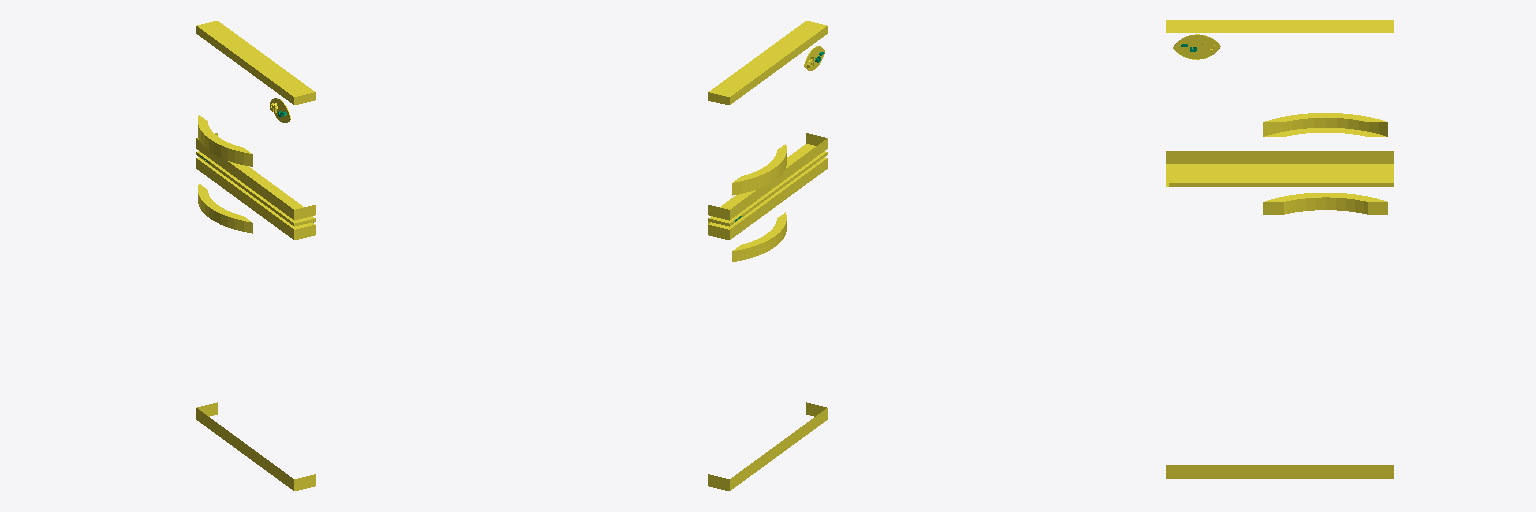
robot.urdf — partnet_26dcf7a76c89d5aa4da5feafe6f1c8fc:
<?xml version="1.0" encoding="utf-8"?>
<robot name="partnet_26dcf7a76c89d5aa4da5feafe6f1c8fc">
 <link name="base"/>
 <link name="link_0">
  <visual name="cabinet_door_surface-16">
   <origin xyz="0.40733147877175346 0.6408960223197937 -0.534749449612443"/>
   <geometry>
    <mesh filename="textured_objs/original-40.obj"/>
   </geometry>
  </visual>
  <visual name="handle-17">
   <origin xyz="0.40733147877175346 0.6408960223197937 -0.534749449612443"/>
   <geometry>
    <mesh filename="textured_objs/original-42.obj"/>
   </geometry>
  </visual>
  <visual name="handle-17">
   <origin xyz="0.40733147877175346 0.6408960223197937 -0.534749449612443"/>
   <geometry>
    <mesh filename="textured_objs/original-44.obj"/>
   </geometry>
  </visual>
  <visual name="handle-17">
   <origin xyz="0.40733147877175346 0.6408960223197937 -0.534749449612443"/>
   <geometry>
    <mesh filename="textured_objs/original-43.obj"/>
   </geometry>
  </visual>
  <collision>
   <origin rpy="1.192092469182411e-07 2.3841852936359696e-07 -1.192092469182411e-07" xyz="0.4073319137096405 0.6408966183662415 -0.5347502827644348"/>
   <geometry>
    <mesh filename="cvx_objs/link_0.obj"/>
   </geometry>
  </collision>
 </link>
 <joint name="joint_0" type="revolute">
  <origin xyz="-0.40733147877175346 -0.6408960223197937 0.534749449612443"/>
  <axis xyz="0 -1 0"/>
  <child link="link_0"/>
  <parent link="link_2"/>
  <limit lower="0.0" upper="1.5833626974092556"/>
 </joint>
 <link name="link_1">
  <visual name="drawer_side-9">
   <origin xyz="0.0442021056935627 -0.5351194006185448 0.5088250041007991"/>
   <geometry>
    <mesh filename="textured_objs/original-25.obj"/>
   </geometry>
  </visual>
  <visual name="drawer_side-10">
   <origin xyz="0.0442021056935627 -0.5351194006185448 0.5088250041007991"/>
   <geometry>
    <mesh filename="textured_objs/original-30.obj"/>
   </geometry>
  </visual>
  <visual name="drawer_back-11">
   <origin xyz="0.0442021056935627 -0.5351194006185448 0.5088250041007991"/>
   <geometry>
    <mesh filename="textured_objs/original-31.obj"/>
   </geometry>
  </visual>
  <visual name="drawer_bottom-12">
   <origin xyz="0.0442021056935627 -0.5351194006185448 0.5088250041007991"/>
   <geometry>
    <mesh filename="textured_objs/original-29.obj"/>
   </geometry>
  </visual>
  <visual name="drawer_bottom-12">
   <origin xyz="0.0442021056935627 -0.5351194006185448 0.5088250041007991"/>
   <geometry>
    <mesh filename="textured_objs/original-28.obj"/>
   </geometry>
  </visual>
  <visual name="drawer_front-13">
   <origin xyz="0.0442021056935627 -0.5351194006185448 0.5088250041007991"/>
   <geometry>
    <mesh filename="textured_objs/original-26.obj"/>
   </geometry>
  </visual>
  <visual name="drawer_front-13">
   <origin xyz="0.0442021056935627 -0.5351194006185448 0.5088250041007991"/>
   <geometry>
    <mesh filename="textured_objs/original-34.obj"/>
   </geometry>
  </visual>
  <visual name="drawer_front-13">
   <origin xyz="0.0442021056935627 -0.5351194006185448 0.5088250041007991"/>
   <geometry>
    <mesh filename="textured_objs/original-7.obj"/>
   </geometry>
  </visual>
  <visual name="other_leaf-15">
   <origin xyz="0.0442021056935627 -0.5351194006185448 0.5088250041007991"/>
   <geometry>
    <mesh filename="textured_objs/original-32.obj"/>
   </geometry>
  </visual>
  <visual name="handle-7">
   <origin xyz="0.0442021056935627 -0.5351194006185448 0.5088250041007991"/>
   <geometry>
    <mesh filename="textured_objs/original-36.obj"/>
   </geometry>
  </visual>
  <visual name="handle-7">
   <origin xyz="0.0442021056935627 -0.5351194006185448 0.5088250041007991"/>
   <geometry>
    <mesh filename="textured_objs/original-38.obj"/>
   </geometry>
  </visual>
  <visual name="handle-7">
   <origin xyz="0.0442021056935627 -0.5351194006185448 0.5088250041007991"/>
   <geometry>
    <mesh filename="textured_objs/original-37.obj"/>
   </geometry>
  </visual>
  <collision>
   <origin rpy="-5.96046536571737e-08 1.788139076808266e-07 -1.7881391833896794e-07" xyz="0.044202227145433426 -0.5351198315620422 0.5088251829147339"/>
   <geometry>
    <mesh filename="cvx_objs/link_1.obj"/>
   </geometry>
  </collision>
 </link>
 <joint name="joint_1" type="prismatic">
  <origin xyz="-0.0442021056935627 0.5351194006185448 -0.5088250041007991"/>
  <axis xyz="0 0 0.9999999999999999"/>
  <child link="link_1"/>
  <parent link="link_2"/>
  <limit lower="0" upper="0.7759999999999998"/>
 </joint>
 <link name="link_2">
  <visual name="shelf-24">
   <origin xyz="0 0 0"/>
   <geometry>
    <mesh filename="textured_objs/original-2.obj"/>
   </geometry>
  </visual>
  <visual name="base_side_panel-19">
   <origin xyz="0 0 0"/>
   <geometry>
    <mesh filename="textured_objs/original-17.obj"/>
   </geometry>
  </visual>
  <visual name="base_side_panel-20">
   <origin xyz="0 0 0"/>
   <geometry>
    <mesh filename="textured_objs/original-19.obj"/>
   </geometry>
  </visual>
  <visual name="base_side_panel-21">
   <origin xyz="0 0 0"/>
   <geometry>
    <mesh filename="textured_objs/original-13.obj"/>
   </geometry>
  </visual>
  <visual name="base_side_panel-22">
   <origin xyz="0 0 0"/>
   <geometry>
    <mesh filename="textured_objs/original-20.obj"/>
   </geometry>
  </visual>
  <visual name="frame_horizontal_bar-30">
   <origin xyz="0 0 0"/>
   <geometry>
    <mesh filename="textured_objs/original-18.obj"/>
   </geometry>
  </visual>
  <visual name="frame_horizontal_bar-31">
   <origin xyz="0 0 0"/>
   <geometry>
    <mesh filename="textured_objs/original-22.obj"/>
   </geometry>
  </visual>
  <visual name="frame_horizontal_bar-32">
   <origin xyz="0 0 0"/>
   <geometry>
    <mesh filename="textured_objs/original-21.obj"/>
   </geometry>
  </visual>
  <visual name="vertical_side_panel-33">
   <origin xyz="0 0 0"/>
   <geometry>
    <mesh filename="textured_objs/original-12.obj"/>
   </geometry>
  </visual>
  <visual name="vertical_side_panel-33">
   <origin xyz="0 0 0"/>
   <geometry>
    <mesh filename="textured_objs/original-11.obj"/>
   </geometry>
  </visual>
  <visual name="vertical_side_panel-34">
   <origin xyz="0 0 0"/>
   <geometry>
    <mesh filename="textured_objs/original-16.obj"/>
   </geometry>
  </visual>
  <visual name="vertical_side_panel-34">
   <origin xyz="0 0 0"/>
   <geometry>
    <mesh filename="textured_objs/original-15.obj"/>
   </geometry>
  </visual>
  <visual name="back_panel-35">
   <origin xyz="0 0 0"/>
   <geometry>
    <mesh filename="textured_objs/original-6.obj"/>
   </geometry>
  </visual>
  <visual name="bottom_panel-36">
   <origin xyz="0 0 0"/>
   <geometry>
    <mesh filename="textured_objs/original-3.obj"/>
   </geometry>
  </visual>
  <visual name="frame_vertical_bar-37">
   <origin xyz="0 0 0"/>
   <geometry>
    <mesh filename="textured_objs/original-8.obj"/>
   </geometry>
  </visual>
  <visual name="frame_vertical_bar-38">
   <origin xyz="0 0 0"/>
   <geometry>
    <mesh filename="textured_objs/original-4.obj"/>
   </geometry>
  </visual>
  <visual name="frame_horizontal_bar-39">
   <origin xyz="0 0 0"/>
   <geometry>
    <mesh filename="textured_objs/original-9.obj"/>
   </geometry>
  </visual>
  <visual name="frame_horizontal_bar-40">
   <origin xyz="0 0 0"/>
   <geometry>
    <mesh filename="textured_objs/original-5.obj"/>
   </geometry>
  </visual>
  <visual name="other_leaf-42">
   <origin xyz="0 0 0"/>
   <geometry>
    <mesh filename="textured_objs/original-45.obj"/>
   </geometry>
  </visual>
  <collision>
   <origin rpy="0.0 -0.0 0.0" xyz="-0.0 -0.0 -0.0"/>
   <geometry>
    <mesh filename="cvx_objs/link_2.obj"/>
   </geometry>
  </collision>
 </link>
 <joint name="joint_2" type="fixed">
  <origin rpy="1.570796326794897 0 -1.570796326794897" xyz="0 0 0"/>
  <child link="link_2"/>
  <parent link="base"/>
 </joint>
</robot>

--- Facts derived from the render (not from the file) ---
3 views of the same robot in one strip: view 1: azimuth 30°, elevation 25°; view 2: azimuth 150°, elevation 25°; view 3: azimuth 270°, elevation 25° (orthographic).
Model partnet_26dcf7a76c89d5aa4da5feafe6f1c8fc with 4 links and 3 joints (1 revolute, 1 prismatic, 1 fixed), rooted at base, posed every joint at zero.
Visible links, largest first — view 1: link_2; view 2: link_2; view 3: link_2.
Link boxes in pixels (left/top/right/bottom): link_2: left=196, top=21, right=315, bottom=490; link_2: left=708, top=21, right=827, bottom=490; link_2: left=1166, top=20, right=1393, bottom=478.
Bounding box of the posed robot: 0.1736 × 0.7784 × 1.73 m (x, y, z).
Meshes: 35 distinct files referenced, 20 mesh visuals loaded (20 OBJ); not drawn: 15 (reference not matched to a file when rendering).